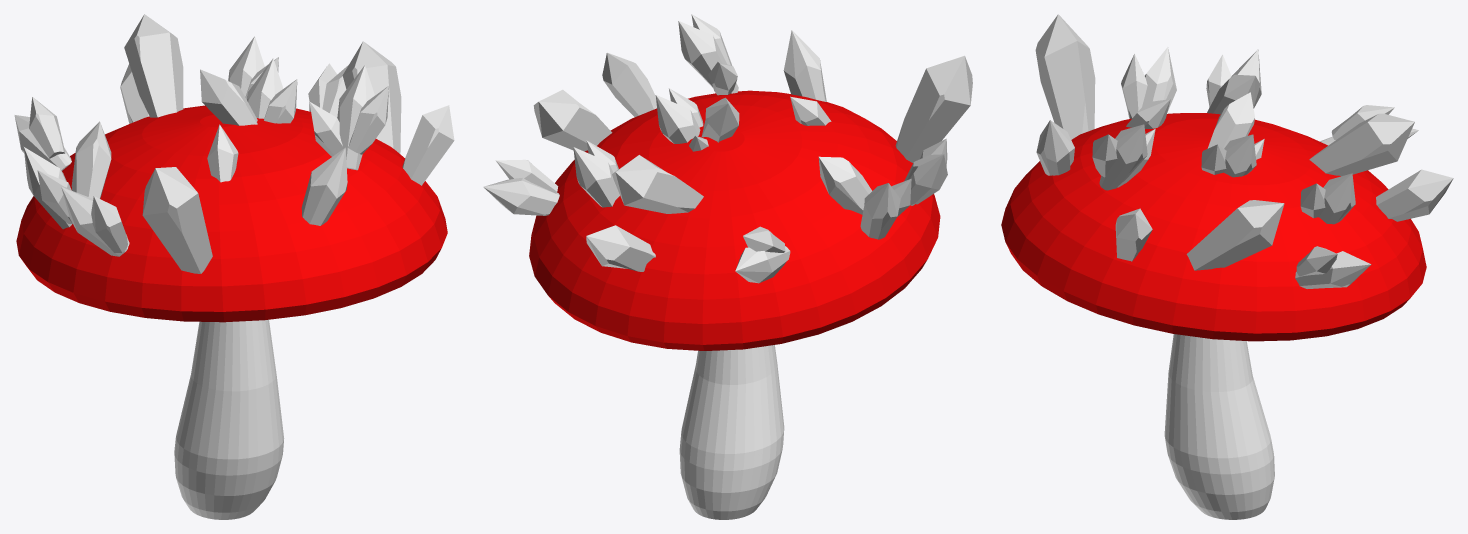
The model's file is champignons_2.fbx.
3 renders of one model, left to right at view 1: azimuth 30°, elevation 25°; view 2: azimuth 150°, elevation 25°; view 3: azimuth 270°, elevation 25°, orthographic. The views are drawn at different scales.
Parts seen in each view (by area): view 1: Sphere, Cylinder.006, Cylinder.017, Cylinder.015, Cylinder.025, Cylinder.003, Cylinder.011, Cylinder.004, Cylinder.013, Cylinder.016, Cylinder.023, Cylinder.024 (+12 smaller); view 2: Sphere, Cylinder.006, Cylinder.017, Cylinder.015, Cylinder.025, Cylinder.001, Cylinder.003, Cylinder.011, Cylinder.026, Cylinder.019, Cylinder.013, Cylinder.009 (+8 smaller); view 3: Sphere, Cylinder.006, Cylinder.015, Cylinder.017, Cylinder.001, Cylinder.013, Cylinder.003, Cylinder.004, Cylinder.026, Cylinder.025, Cylinder.019, Cylinder.024 (+10 smaller).
Boxes of the visible parts, x1=… form: Sphere: x1=16, y1=105, x2=447, y2=519; Cylinder.006: x1=142, y1=167, x2=212, y2=273; Cylinder.017: x1=124, y1=14, x2=183, y2=117; Cylinder.015: x1=342, y1=41, x2=401, y2=153; Cylinder.025: x1=402, y1=105, x2=454, y2=185; Cylinder.003: x1=301, y1=147, x2=347, y2=225; Cylinder.011: x1=71, y1=121, x2=111, y2=198; Cylinder.004: x1=200, y1=69, x2=257, y2=125; Cylinder.013: x1=337, y1=65, x2=374, y2=170; Cylinder.016: x1=348, y1=86, x2=388, y2=154; Cylinder.023: x1=91, y1=196, x2=127, y2=252; Cylinder.024: x1=61, y1=187, x2=129, y2=256; Sphere: x1=529, y1=90, x2=940, y2=519; Cylinder.006: x1=895, y1=55, x2=972, y2=162; Cylinder.017: x1=612, y1=155, x2=703, y2=213; Cylinder.015: x1=533, y1=89, x2=612, y2=151; Cylinder.025: x1=602, y1=52, x2=656, y2=116; Cylinder.001: x1=586, y1=225, x2=655, y2=271; Cylinder.003: x1=783, y1=30, x2=826, y2=101; Cylinder.011: x1=818, y1=156, x2=871, y2=214; Cylinder.026: x1=483, y1=178, x2=559, y2=215; Cylinder.019: x1=573, y1=147, x2=619, y2=207; Cylinder.013: x1=678, y1=21, x2=738, y2=93; Cylinder.009: x1=860, y1=183, x2=900, y2=239; Sphere: x1=1001, y1=113, x2=1426, y2=519; Cylinder.006: x1=1035, y1=14, x2=1095, y2=139; Cylinder.015: x1=1186, y1=200, x2=1284, y2=270; Cylinder.017: x1=1309, y1=113, x2=1414, y2=176; Cylinder.001: x1=1376, y1=169, x2=1453, y2=221; Cylinder.013: x1=1099, y1=124, x2=1147, y2=190; Cylinder.003: x1=1036, y1=120, x2=1074, y2=175; Cylinder.004: x1=1207, y1=92, x2=1254, y2=148; Cylinder.026: x1=1295, y1=251, x2=1371, y2=288; Cylinder.025: x1=1115, y1=208, x2=1152, y2=261; Cylinder.019: x1=1319, y1=173, x2=1355, y2=224; Cylinder.024: x1=1142, y1=47, x2=1176, y2=112.
Bounding box in the file's own units: 284 × 321 × 309.
1 material, 1 textured.
